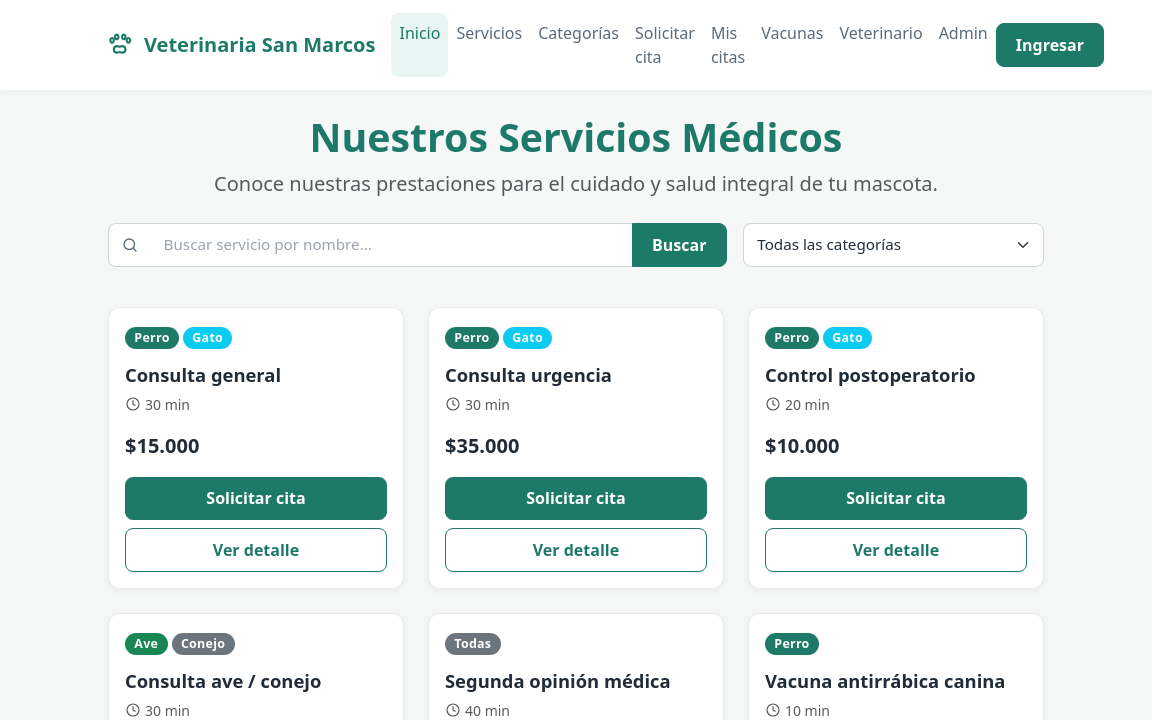
Página Servicios › muestra mensaje cuando no hay resultados
This screenshot has width=1152, height=720.
Type "zzzzzz" into the search field.
click(391, 245); type("zzzzzz")  # box [150,223,633,267]
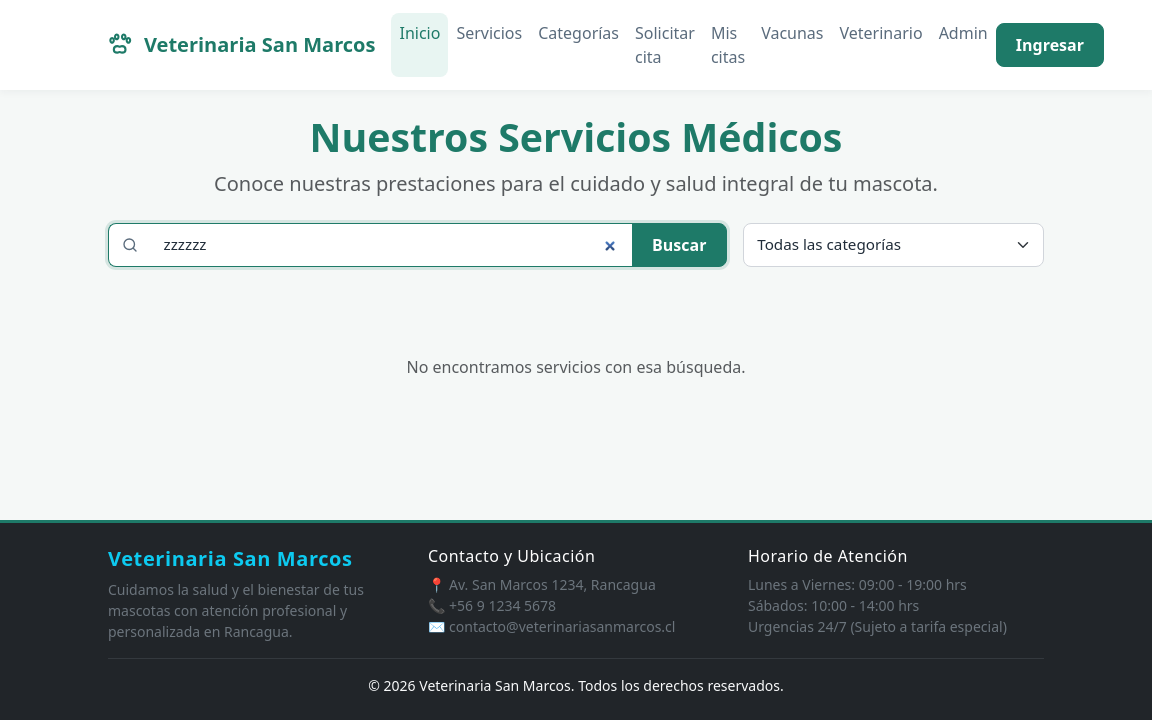
Check: the text "No encontramos servicios con esa búsqueda." is shown, box [406,356,746,378]
